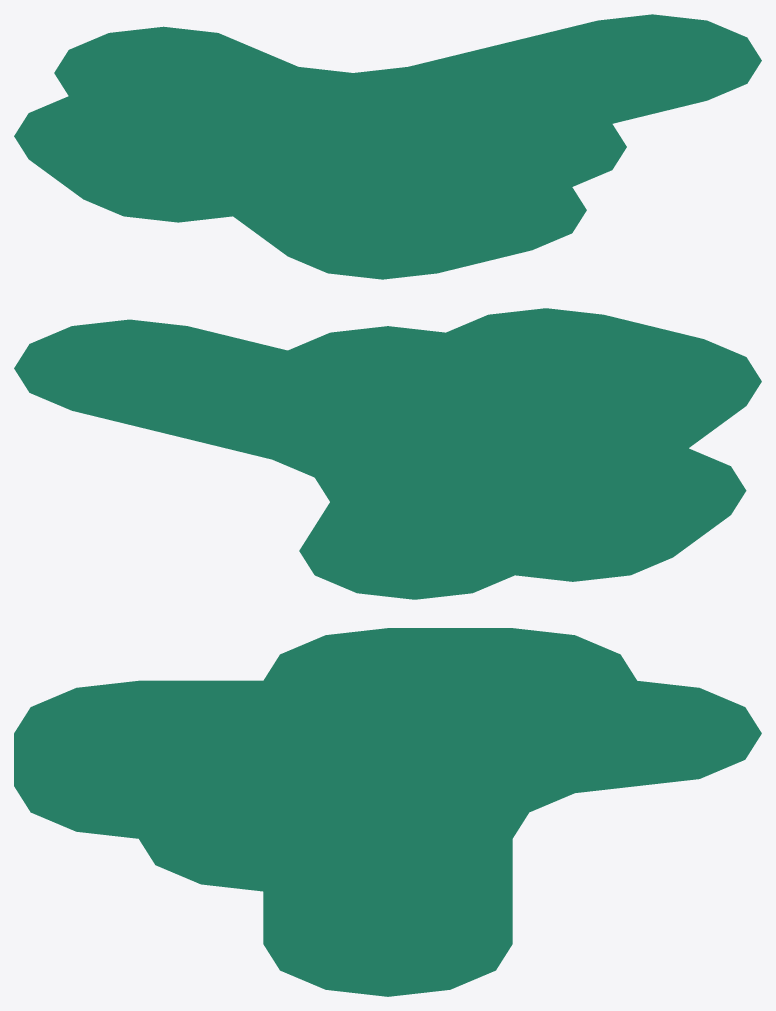
The model's file is patch-grass-large.obj.
The picture shows the model from 3 angles, top to bottom: view 1: azimuth 30°, elevation 25°; view 2: azimuth 150°, elevation 25°; view 3: azimuth 270°, elevation 25°; orthographic projection. The views are drawn at different scales.
Bounding box in the file's own units: 1.4 × 0 × 1.2.
